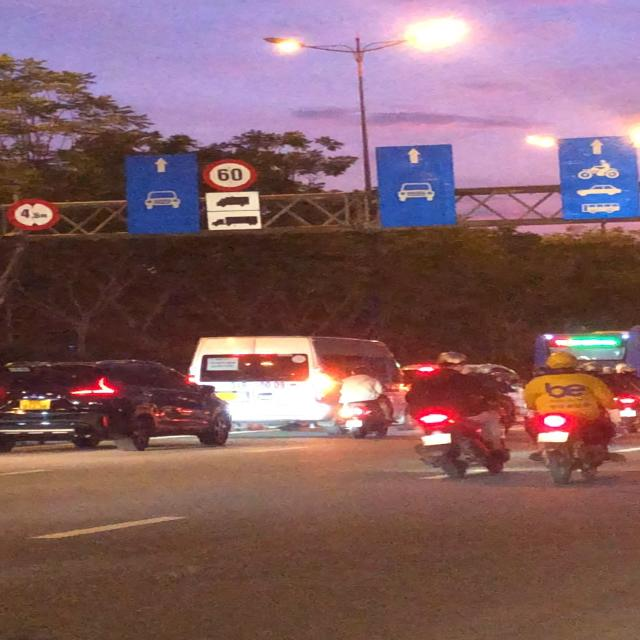Bien bao han che chieu cao: (5, 196, 59, 237)
Bien bao toc do toi da cho phep: (199, 156, 263, 190)
